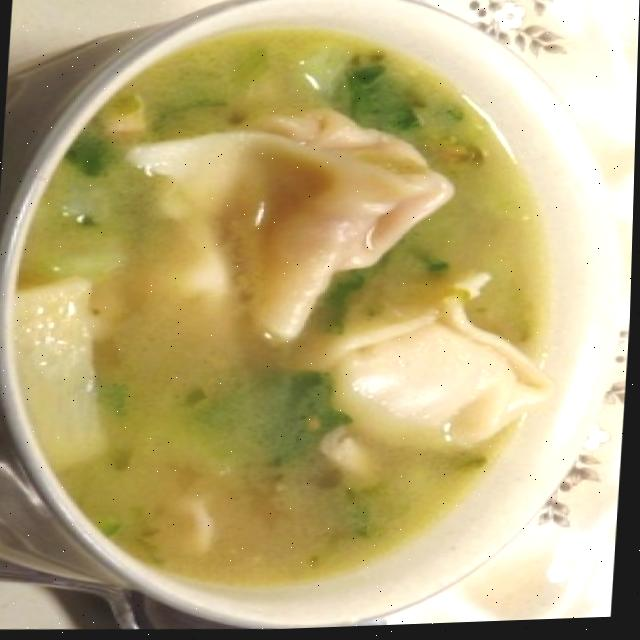汤锅炖物: (0, 0, 614, 624)
